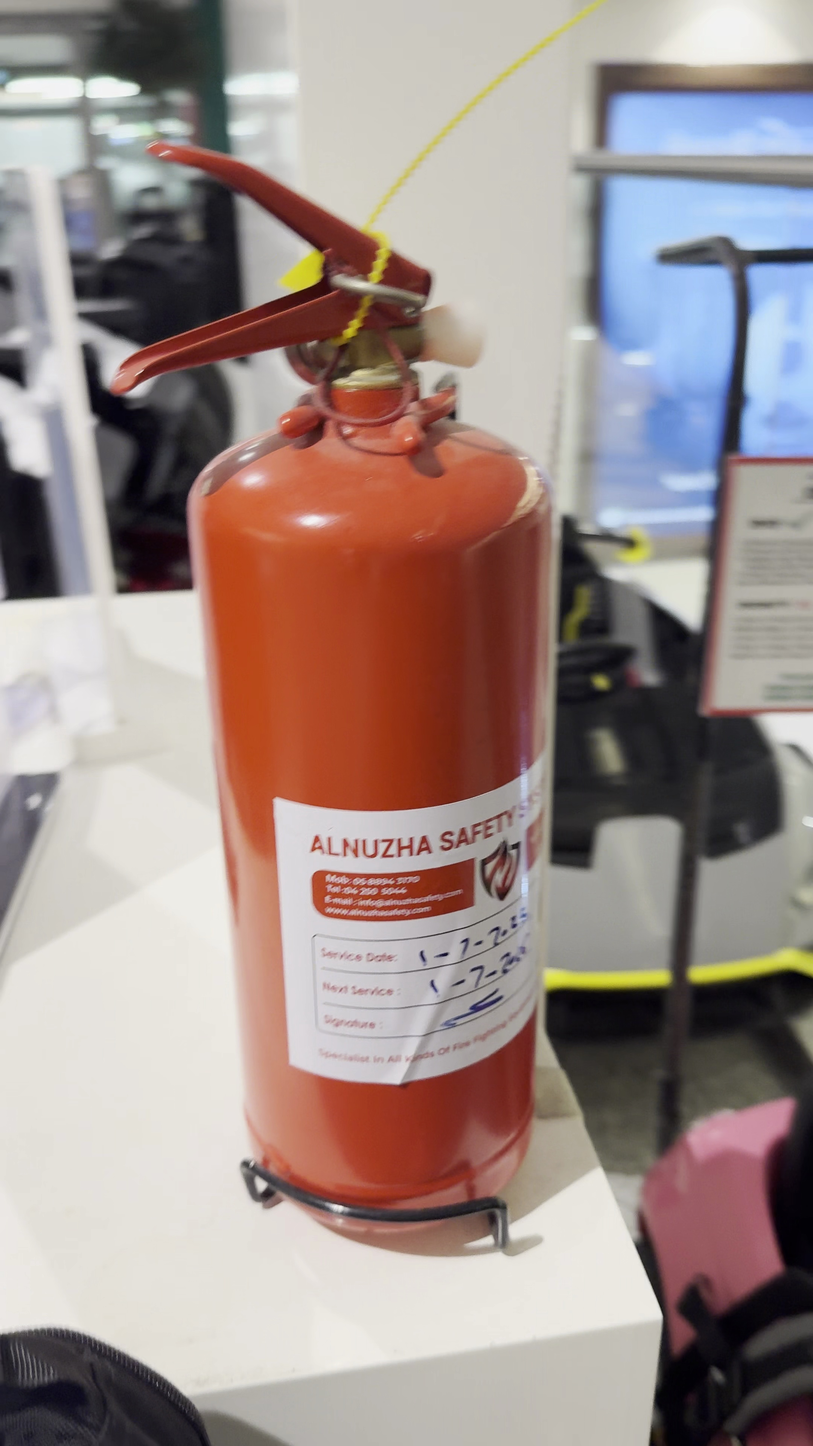fire_extinguisher: (109, 138, 559, 1253)
